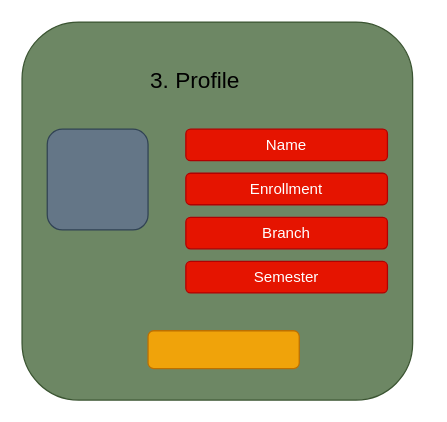
Some shapes in this 447 by 422 pixel diagram are drawn without their labels. The centre of each missing label's shape, as x and y in pixels:
Edit Profile: point (223, 349)
Photo: point (97, 179)
